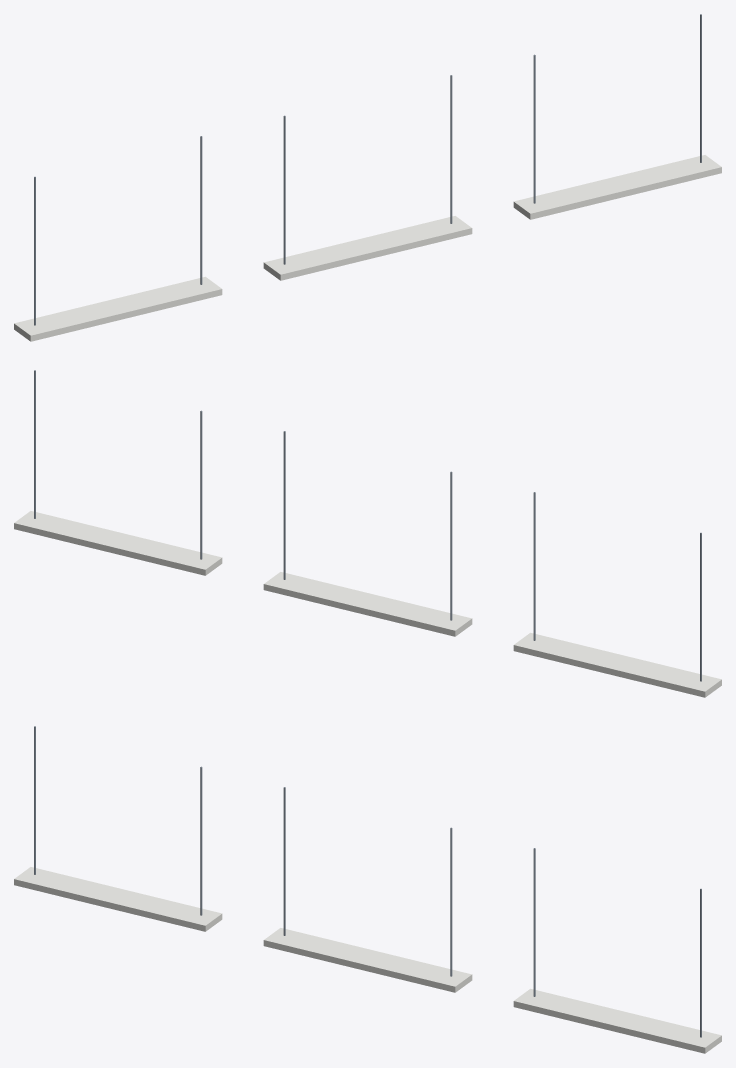
The model's file is ceiling-light.glb.
The picture shows the model from 3 angles, top to bottom: view 1: azimuth 30°, elevation 25°; view 2: azimuth 150°, elevation 25°; view 3: azimuth 330°, elevation 25°; orthographic projection.
Parts seen in each view (by area): view 1: ceiling-light; view 2: ceiling-light; view 3: ceiling-light.
Part boxes in pixels (bbox=[...]): ceiling-light: bbox=[14, 14, 721, 341]; ceiling-light: bbox=[14, 370, 721, 697]; ceiling-light: bbox=[14, 726, 721, 1053].
Bounding box in the file's own units: 16.6 × 3.61 × 0.7.
